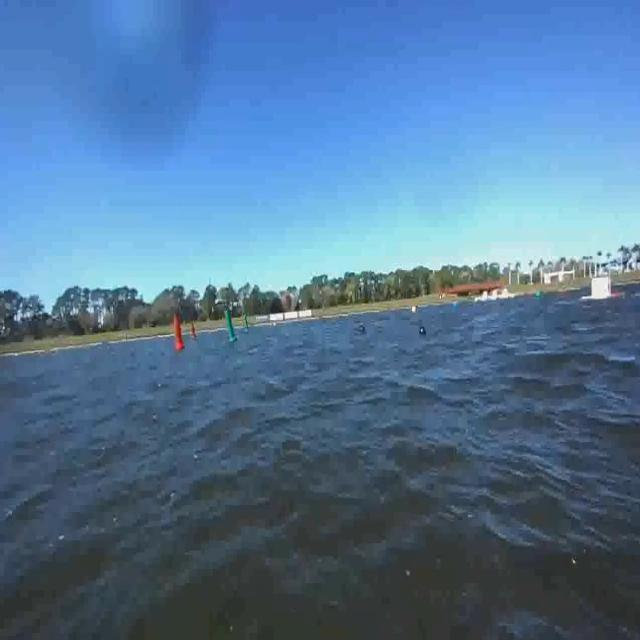green-column-buoy: (224, 312, 238, 345)
red-column-buoy: (172, 310, 184, 352)
